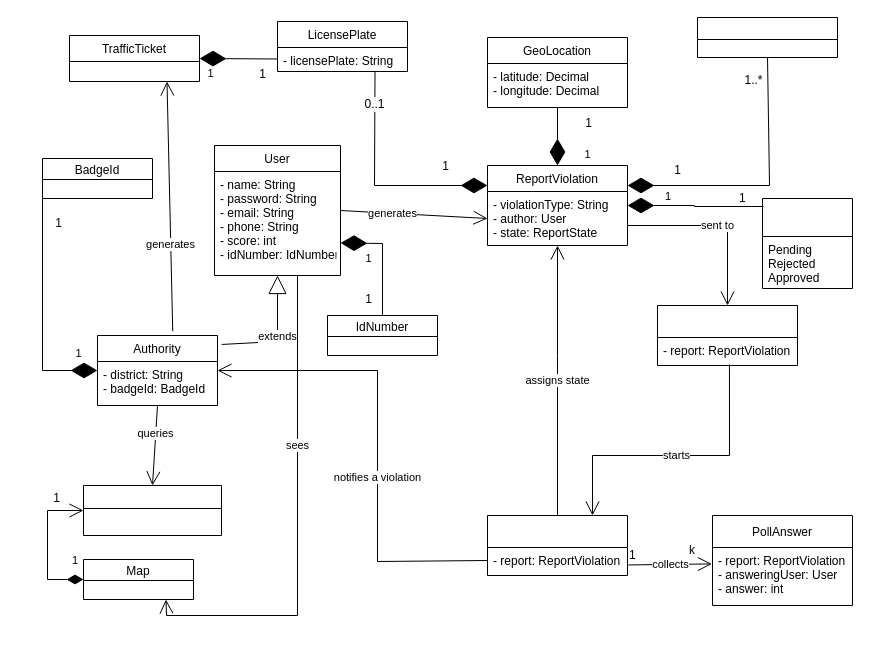
Image size: 870x647. Some labels were removed from this diagram. The shapes that lost their labels are listed below. From the top down, each one's box as (x1, y1, x2, y2) in pixels, then its label:
(696, 16, 838, 58): Picture
(762, 198, 852, 288): «enumeration» ReportState
(656, 304, 798, 366): ReportValidationHandler
(82, 484, 222, 536): StatisticsStorage
(486, 514, 628, 576): Poll
